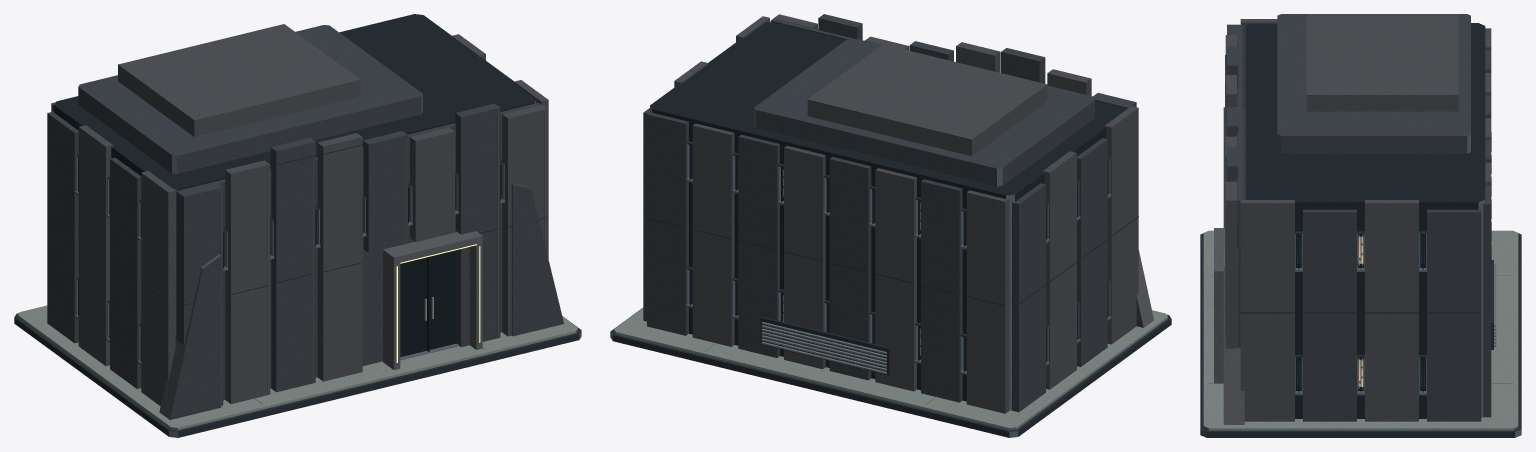
Rendered from 01-about-annex-02.glb.
3 views of the same model, side by side, from view 1: azimuth 30°, elevation 25°; view 2: azimuth 150°, elevation 25°; view 3: azimuth 270°, elevation 25° (orthographic).
Parts seen in each view (by area): view 1: about_monolith_annex; view 2: about_monolith_annex; view 3: about_monolith_annex.
Boxes of the visible parts, x1,y1,x2,y2 form: about_monolith_annex: (14, 14, 581, 437); about_monolith_annex: (610, 14, 1171, 437); about_monolith_annex: (1200, 14, 1521, 437).
Size of the model in its own units: 14.3 by 8.66 by 9.7.
2 materials, 2 textured.
